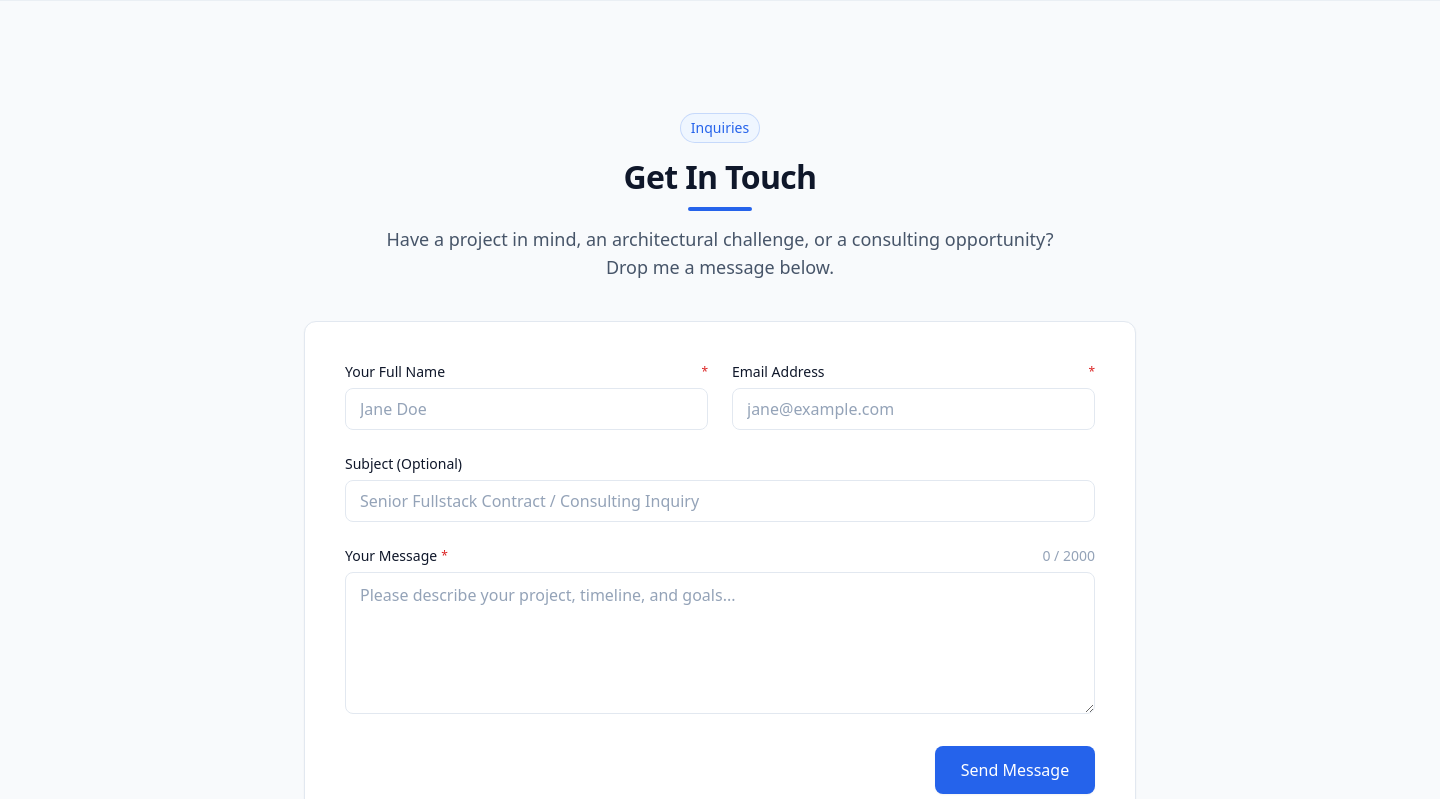
Contact Form Component › Client-Side Form Validation › blocks submission and shows inline errors when required fields are empty
Click the button "Send Message" at [1015, 770], box x1=935 y1=746 x2=1095 y2=794
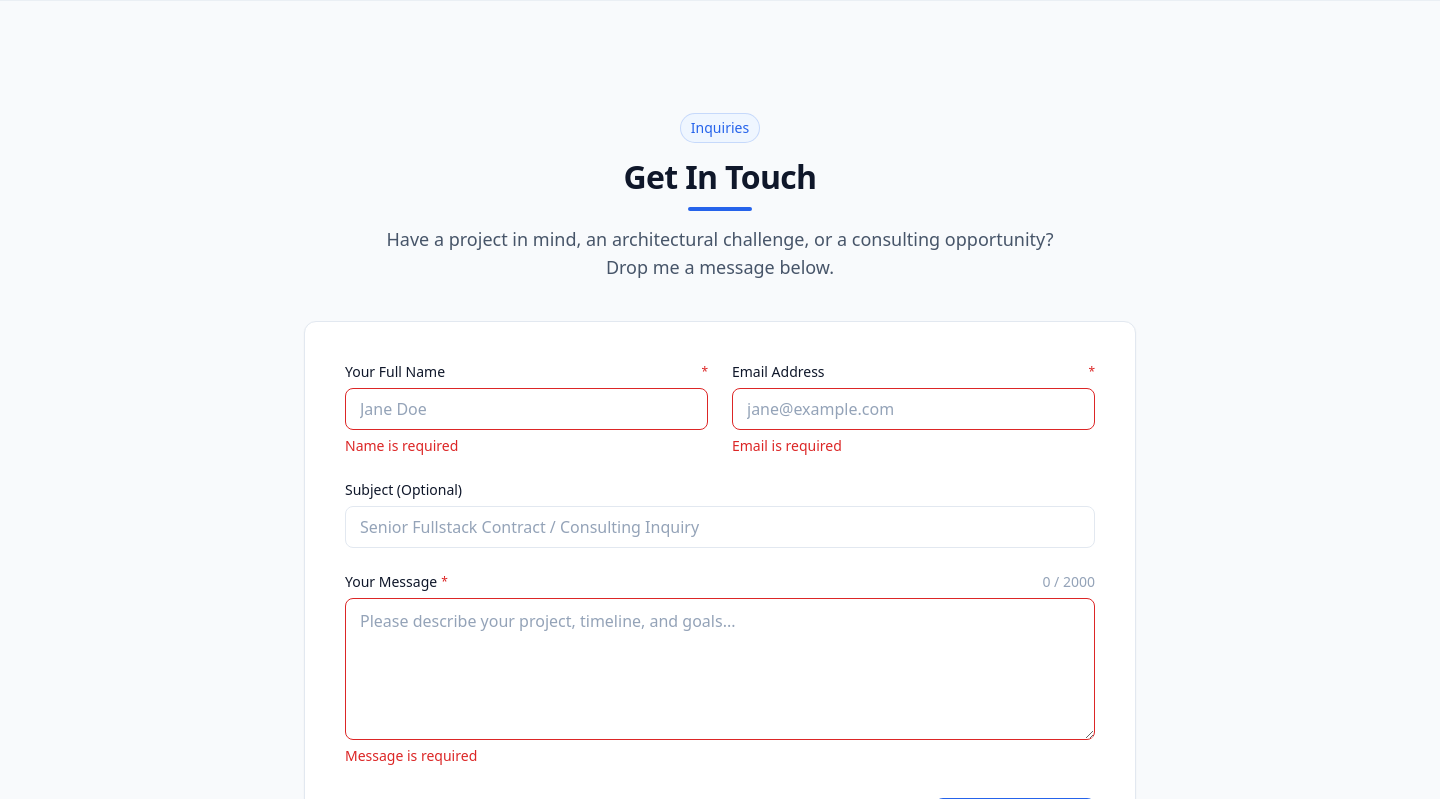
expect the text "Name is required" is shown: met, box x1=345 y1=436 x2=458 y2=456
expect the text "Email is required" is shown: met, box x1=732 y1=436 x2=842 y2=456
expect the text "Message is required" is shown: met, box x1=345 y1=746 x2=477 y2=765
